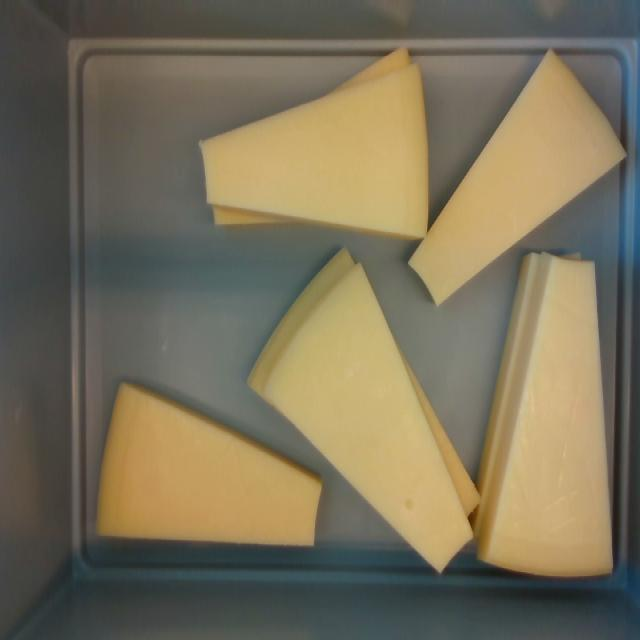cheese: (257, 265, 473, 571), (409, 52, 624, 304), (198, 65, 430, 235), (487, 256, 610, 573), (98, 384, 321, 544)
